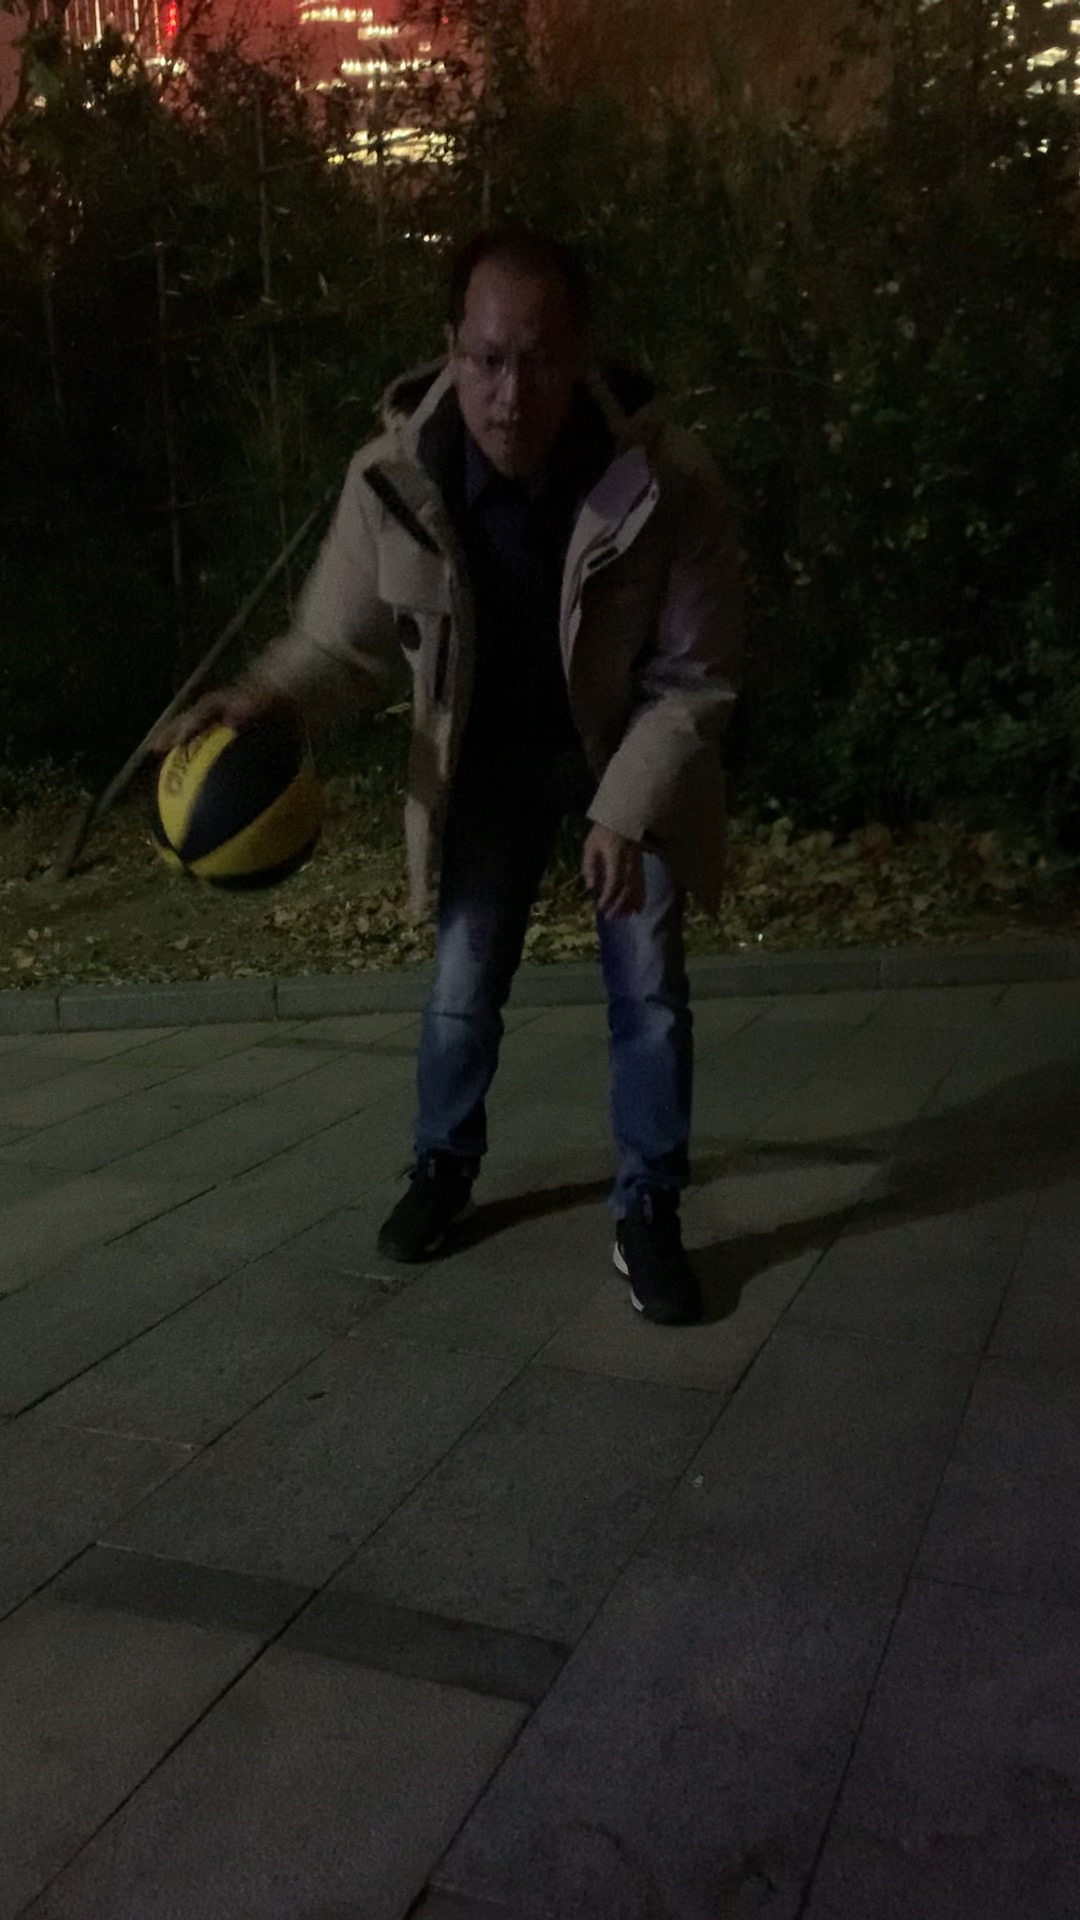ball: (146, 709, 324, 890)
